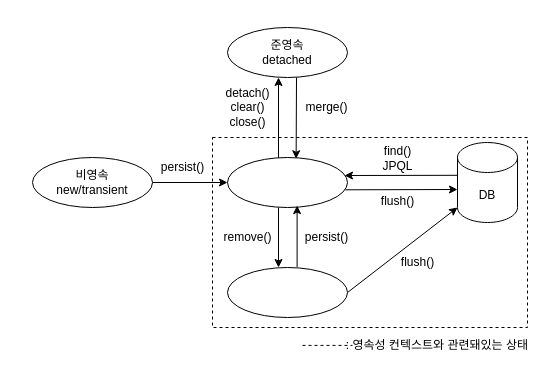
The diagram is 554 pixels wide and 374 high, and some of its shapes have lost their labels. Each missing label, with the centre of its shape:
삭제 removed: pixel 287 292
영속 managed: pixel 287 182
